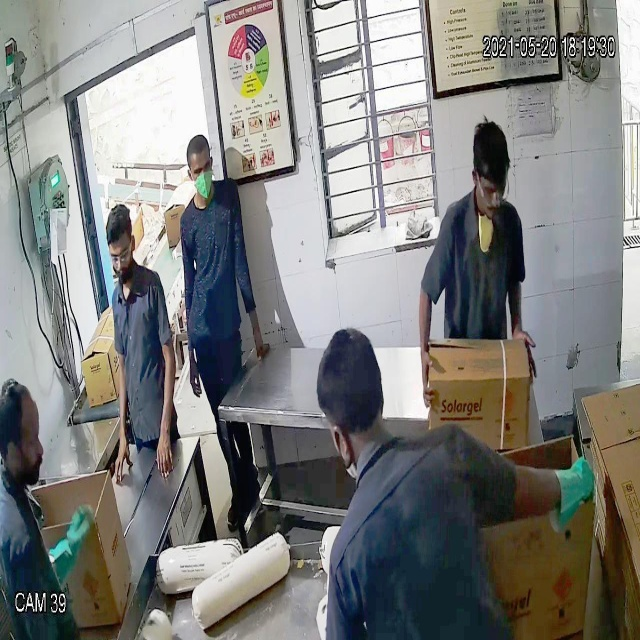Gafas: (472, 169, 509, 204), (106, 238, 139, 270)
Sin_gafas: (184, 158, 219, 183)
